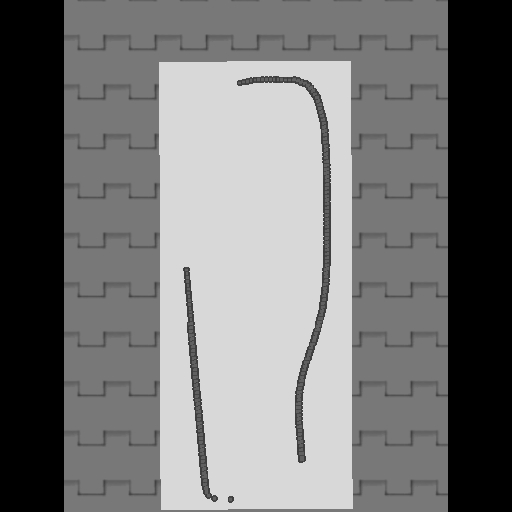Defect: (176, 81, 241, 266)
